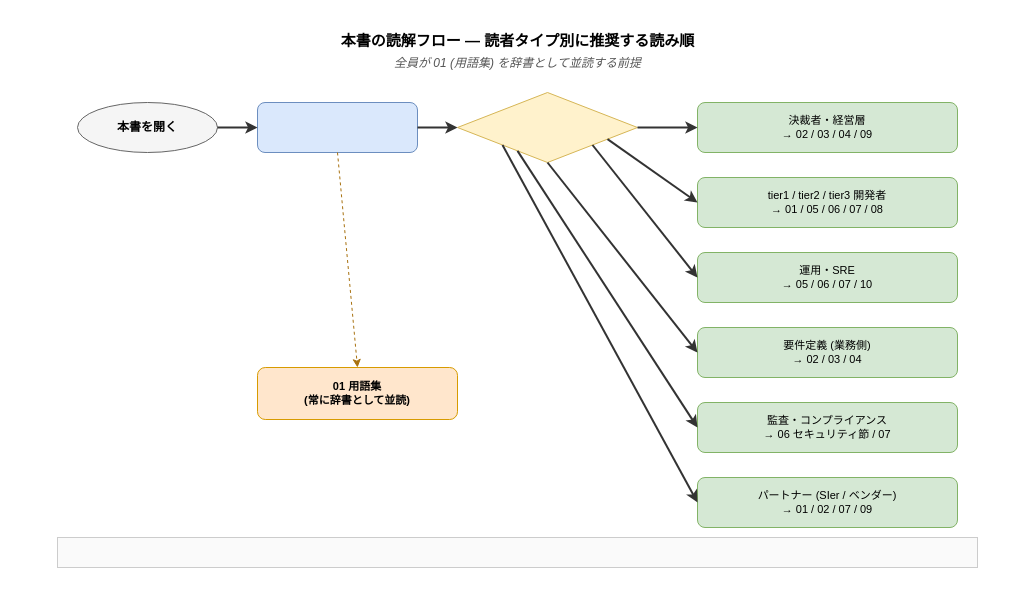
This 1034x594 diagram has some shape labels left out. The shapes that lost their labels are listed below. From the top down, each one's box as (x1, y1, x2, y2) in pixels, then its label:
(256, 102, 418, 152): 00 はじめに (読み方のルール)
(456, 92, 638, 162): あなたの役割は？
(56, 536, 978, 568): 破線 = 全読者が 01 用語集を常に参照。太線 = メインの読み順。役割が複数ある場合は上から順に読むとよい。
